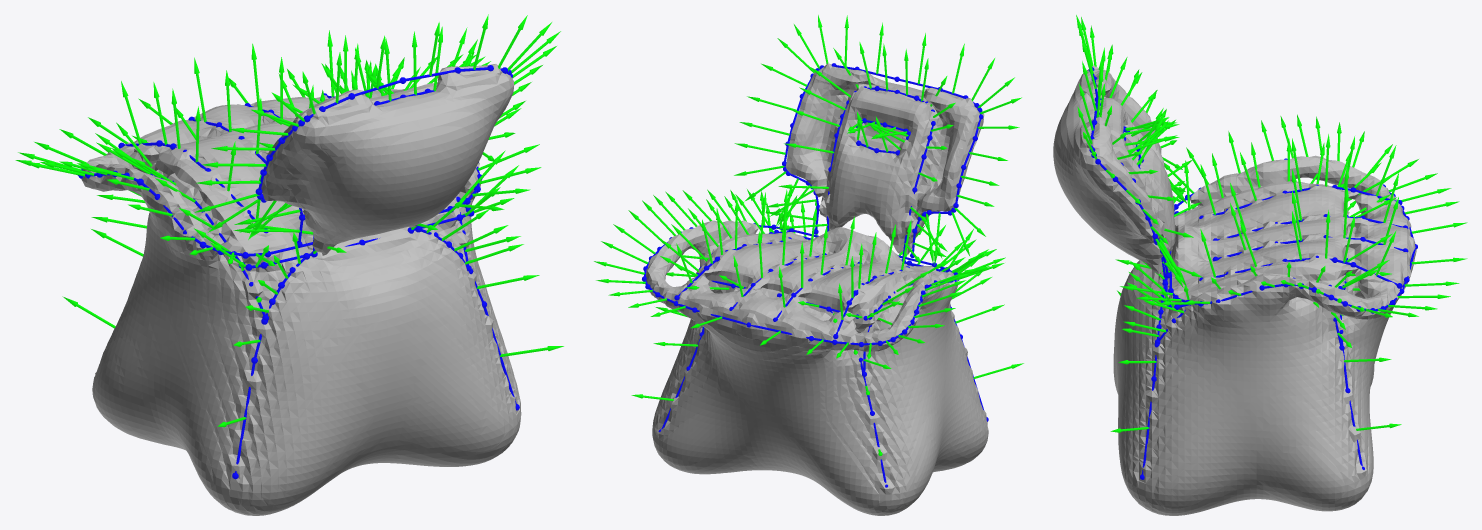
The model's file is author1_chair.gltf.
3 renders of one model, left to right at view 1: azimuth 30°, elevation 25°; view 2: azimuth 150°, elevation 25°; view 3: azimuth 270°, elevation 25°, orthographic. The views are drawn at different scales.
Size of the model in its own units: 0.7398 by 0.8 by 0.7175.
